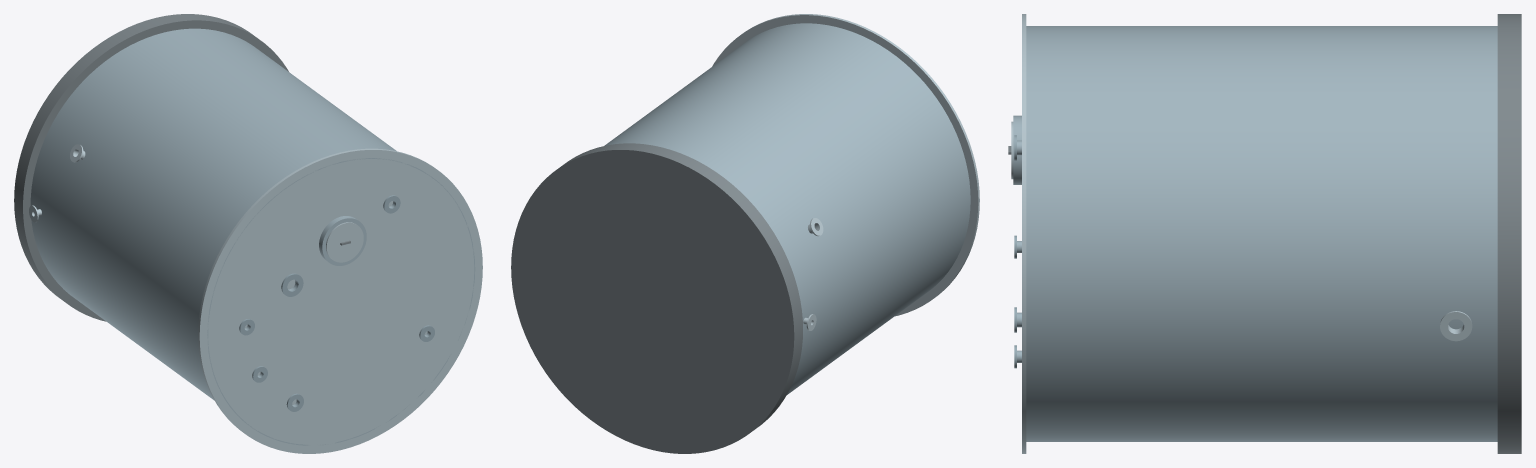
3 renders of one model, left to right at view 1: azimuth 30°, elevation 25°; view 2: azimuth 150°, elevation 25°; view 3: azimuth 270°, elevation 25°, orthographic. The views are drawn at different scales.
Parts seen in each view (by area): view 1: 本体_筒壳, 槽盖_盖板, 支撑_基座, 接口_人孔盖, 接口_人孔座圈; view 2: 支撑_基座, 本体_筒壳, 槽盖_盖板; view 3: 本体_筒壳, 支撑_基座, 槽盖_盖板, 接口_东侧法兰, 接口_人孔座圈.
Boxes of the visible parts, x1,y1,x2,y2 form: 本体_筒壳: [30, 28, 475, 445]; 槽盖_盖板: [198, 148, 482, 453]; 支撑_基座: [14, 14, 288, 321]; 接口_人孔盖: [326, 222, 363, 262]; 接口_人孔座圈: [319, 216, 366, 265]; 支撑_基座: [511, 143, 802, 453]; 本体_筒壳: [604, 23, 970, 395]; 槽盖_盖板: [712, 14, 979, 316]; 本体_筒壳: [1026, 26, 1497, 441]; 支撑_基座: [1497, 14, 1521, 453]; 槽盖_盖板: [1022, 14, 1026, 453]; 接口_东侧法兰: [1440, 311, 1472, 341]; 接口_人孔座圈: [1013, 115, 1021, 184].
Bounding box in the file's own units: 3.7 × 3.7 × 4.31.
